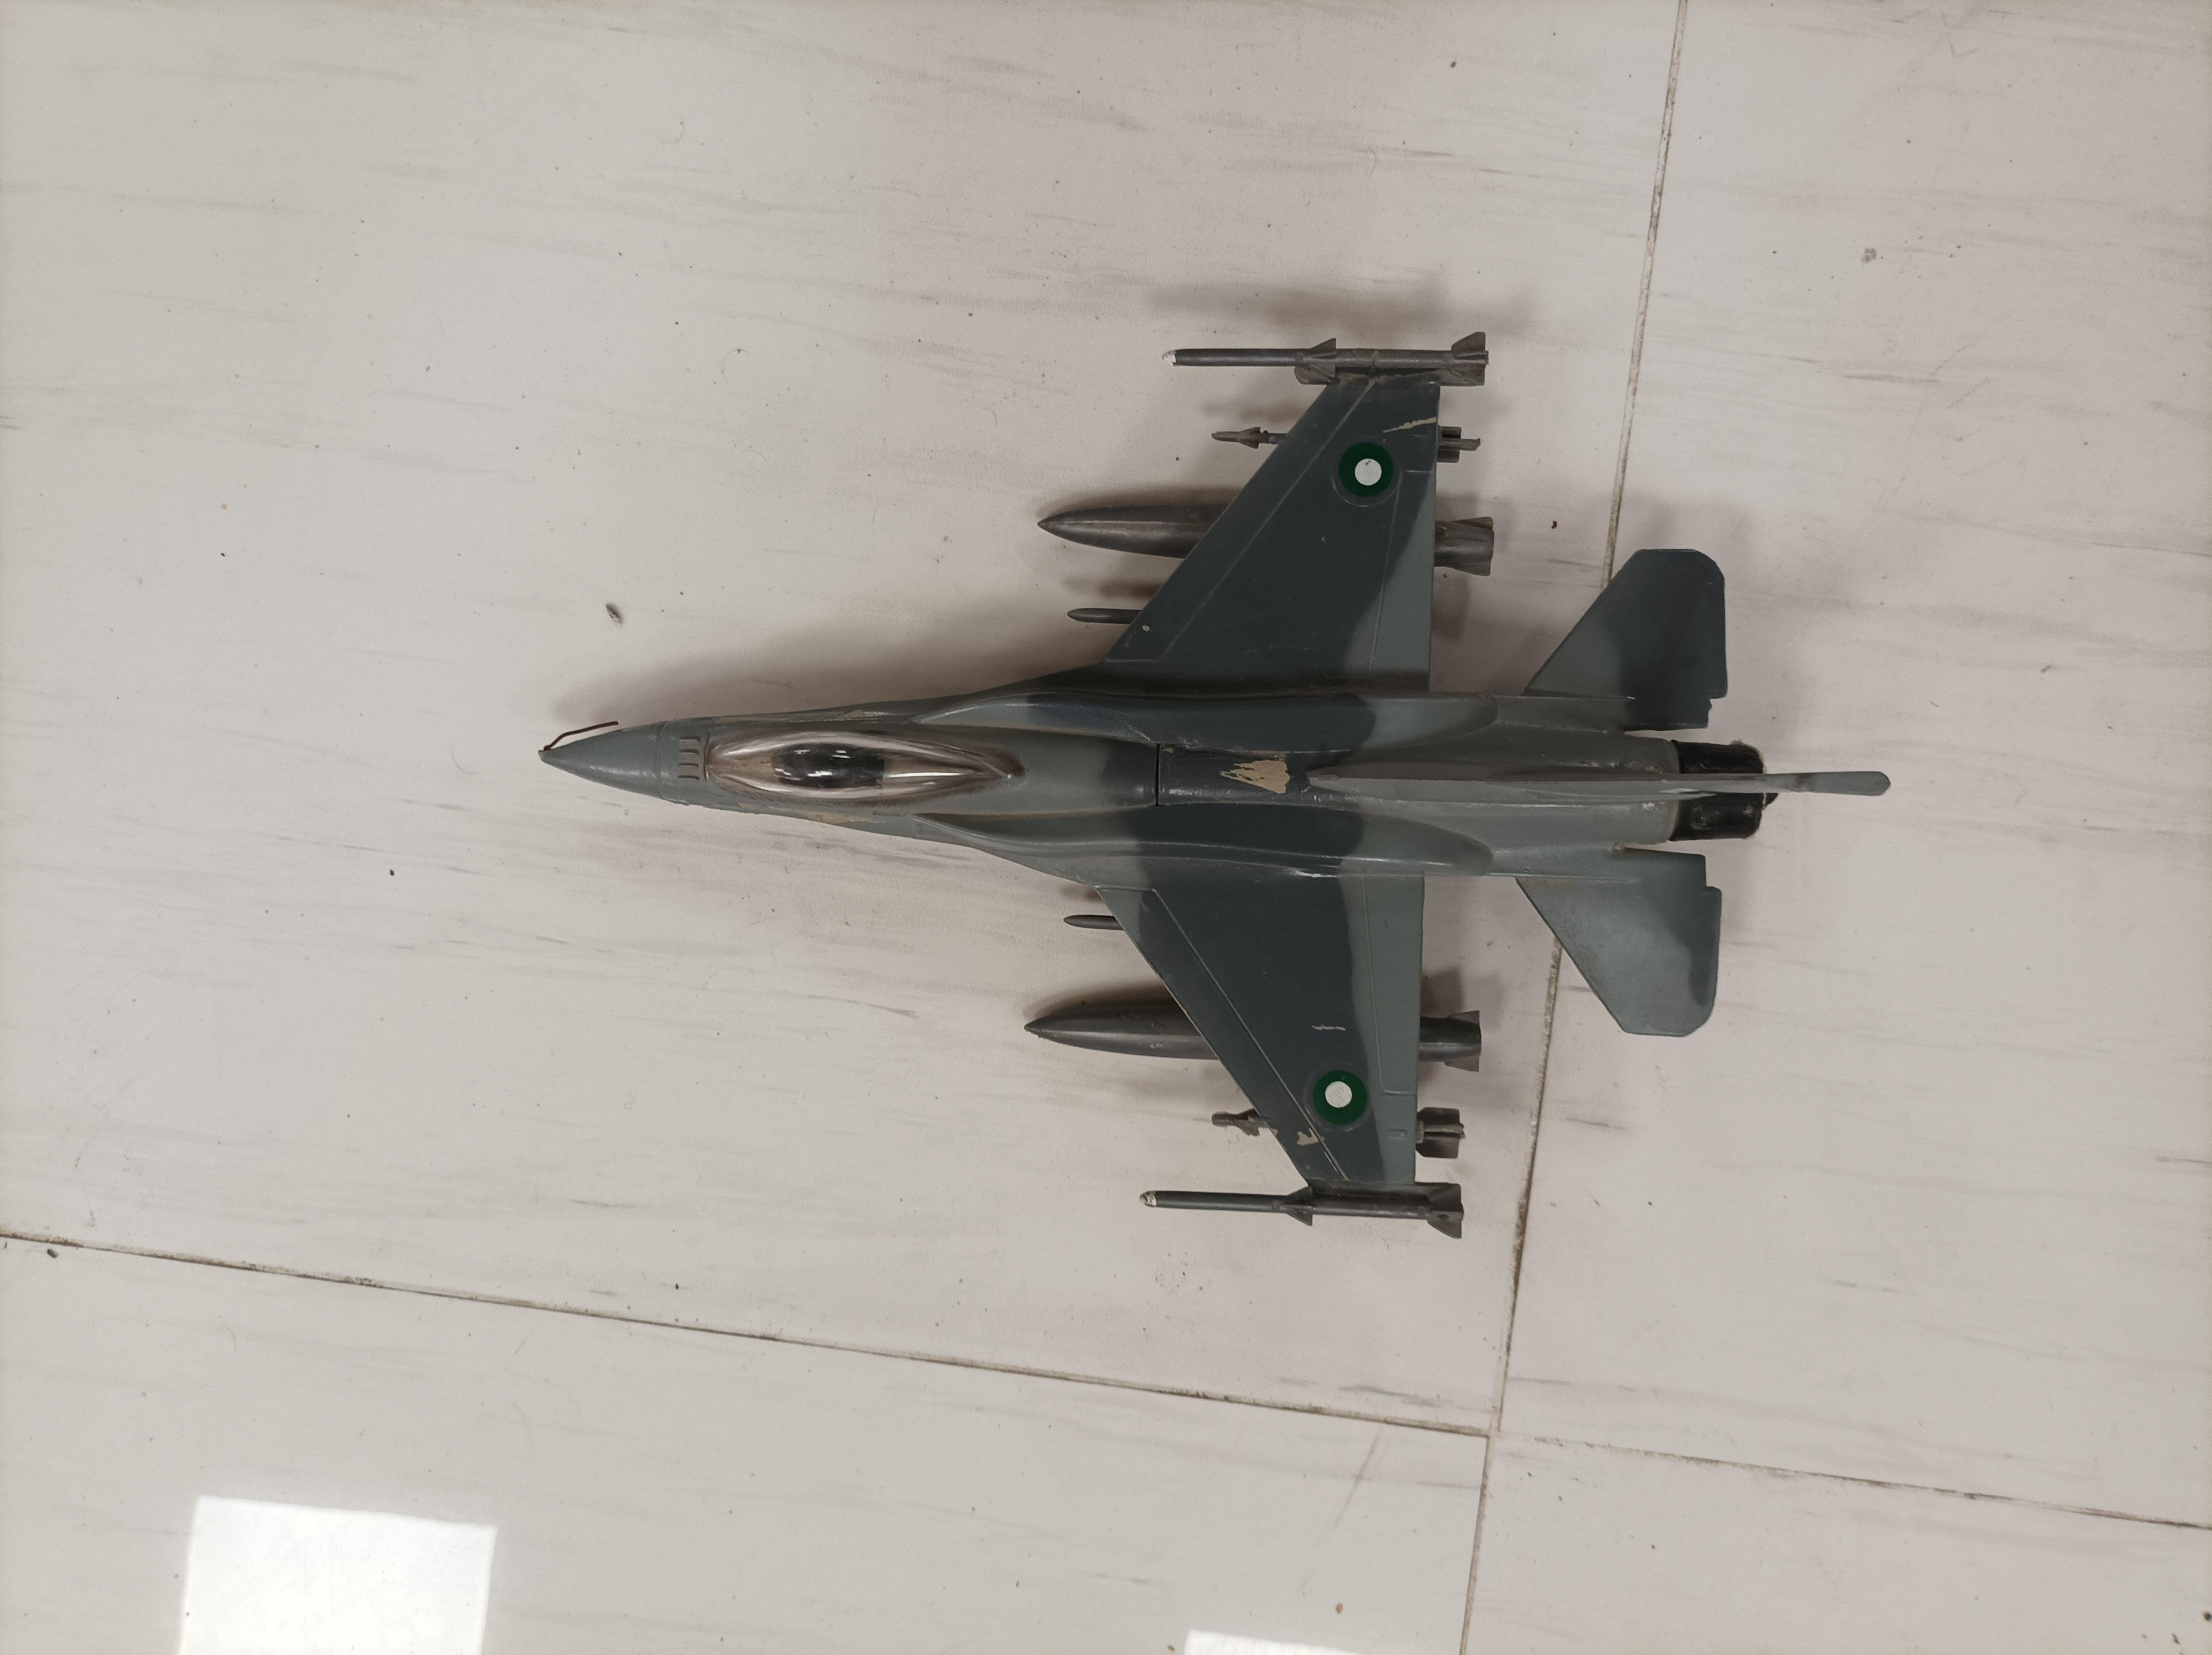Airplane: (532, 329, 1925, 1260)
